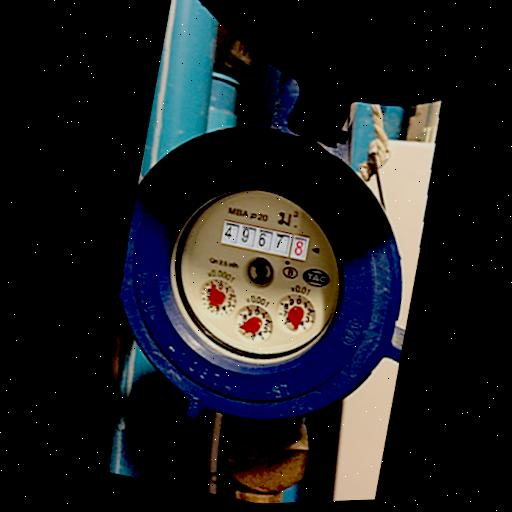4: (222, 223, 239, 244)
6: (256, 231, 273, 251)
7: (273, 234, 290, 255)
8: (290, 237, 306, 258)
9: (239, 226, 255, 246)
border_water_meter_number: (219, 217, 311, 263)
